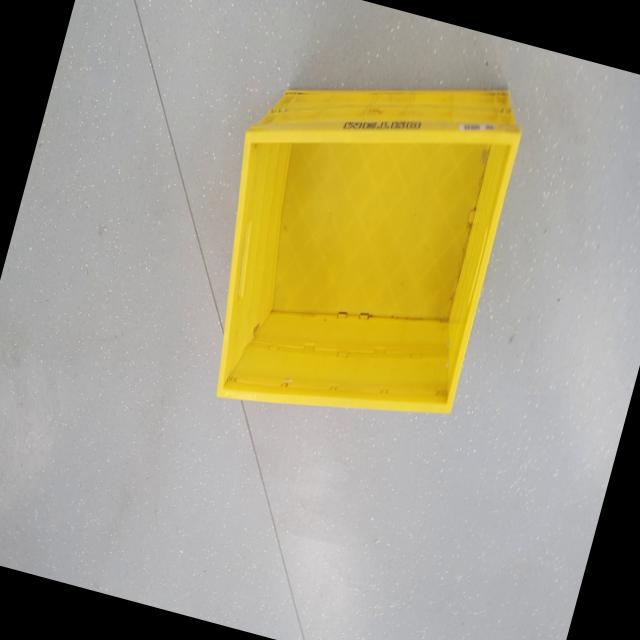box: (169, 1, 544, 468)
